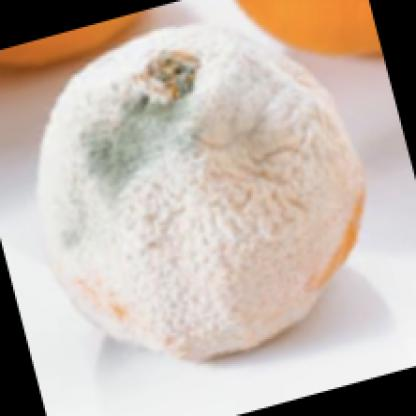rotten_orange: (33, 19, 359, 379)
